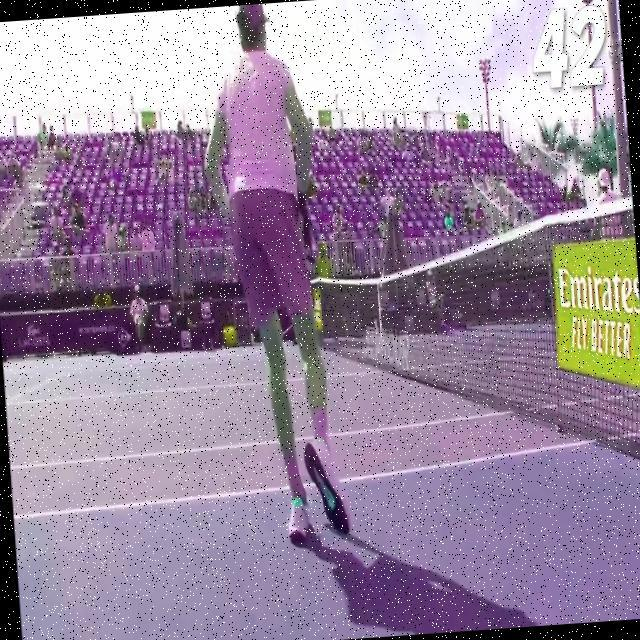player: (191, 0, 353, 551)
